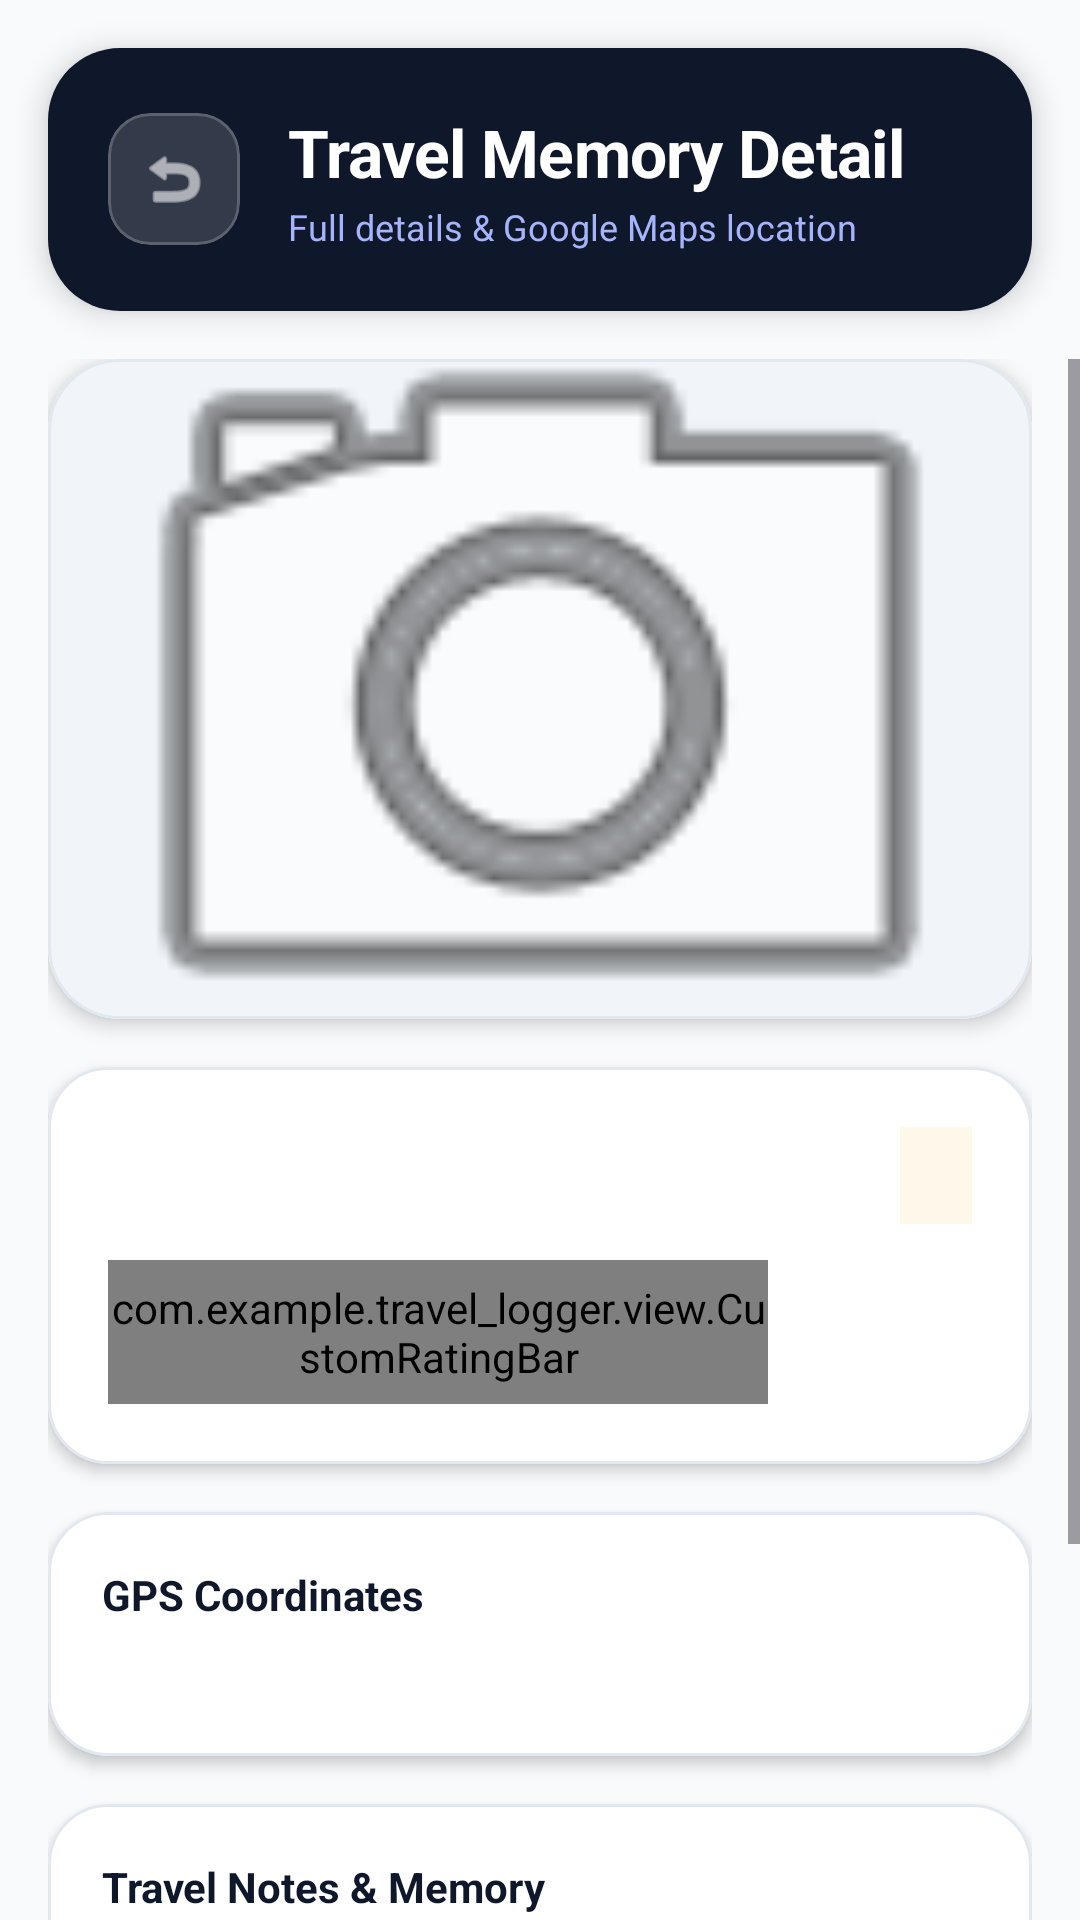

Named icons in this screenshot (1080px x 1920px) and their bounding boxes, (x1, y1, x2, y2):
revert: (149, 156, 201, 203)
